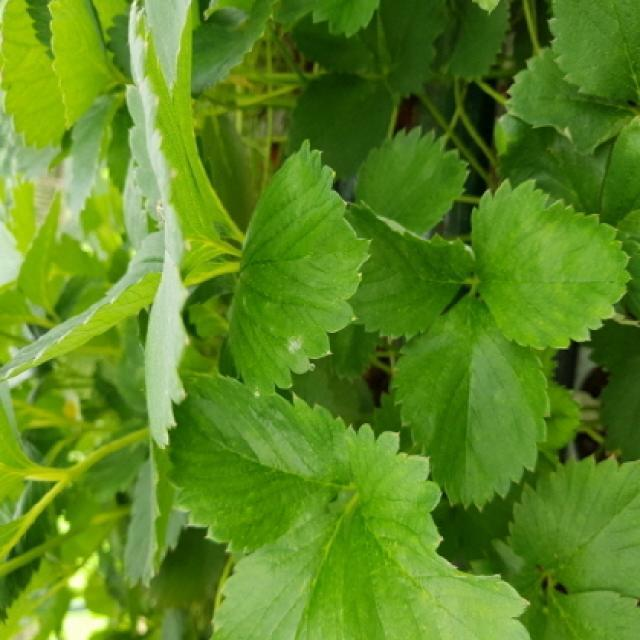powdery_mildew_leaf: (225, 137, 375, 394)
